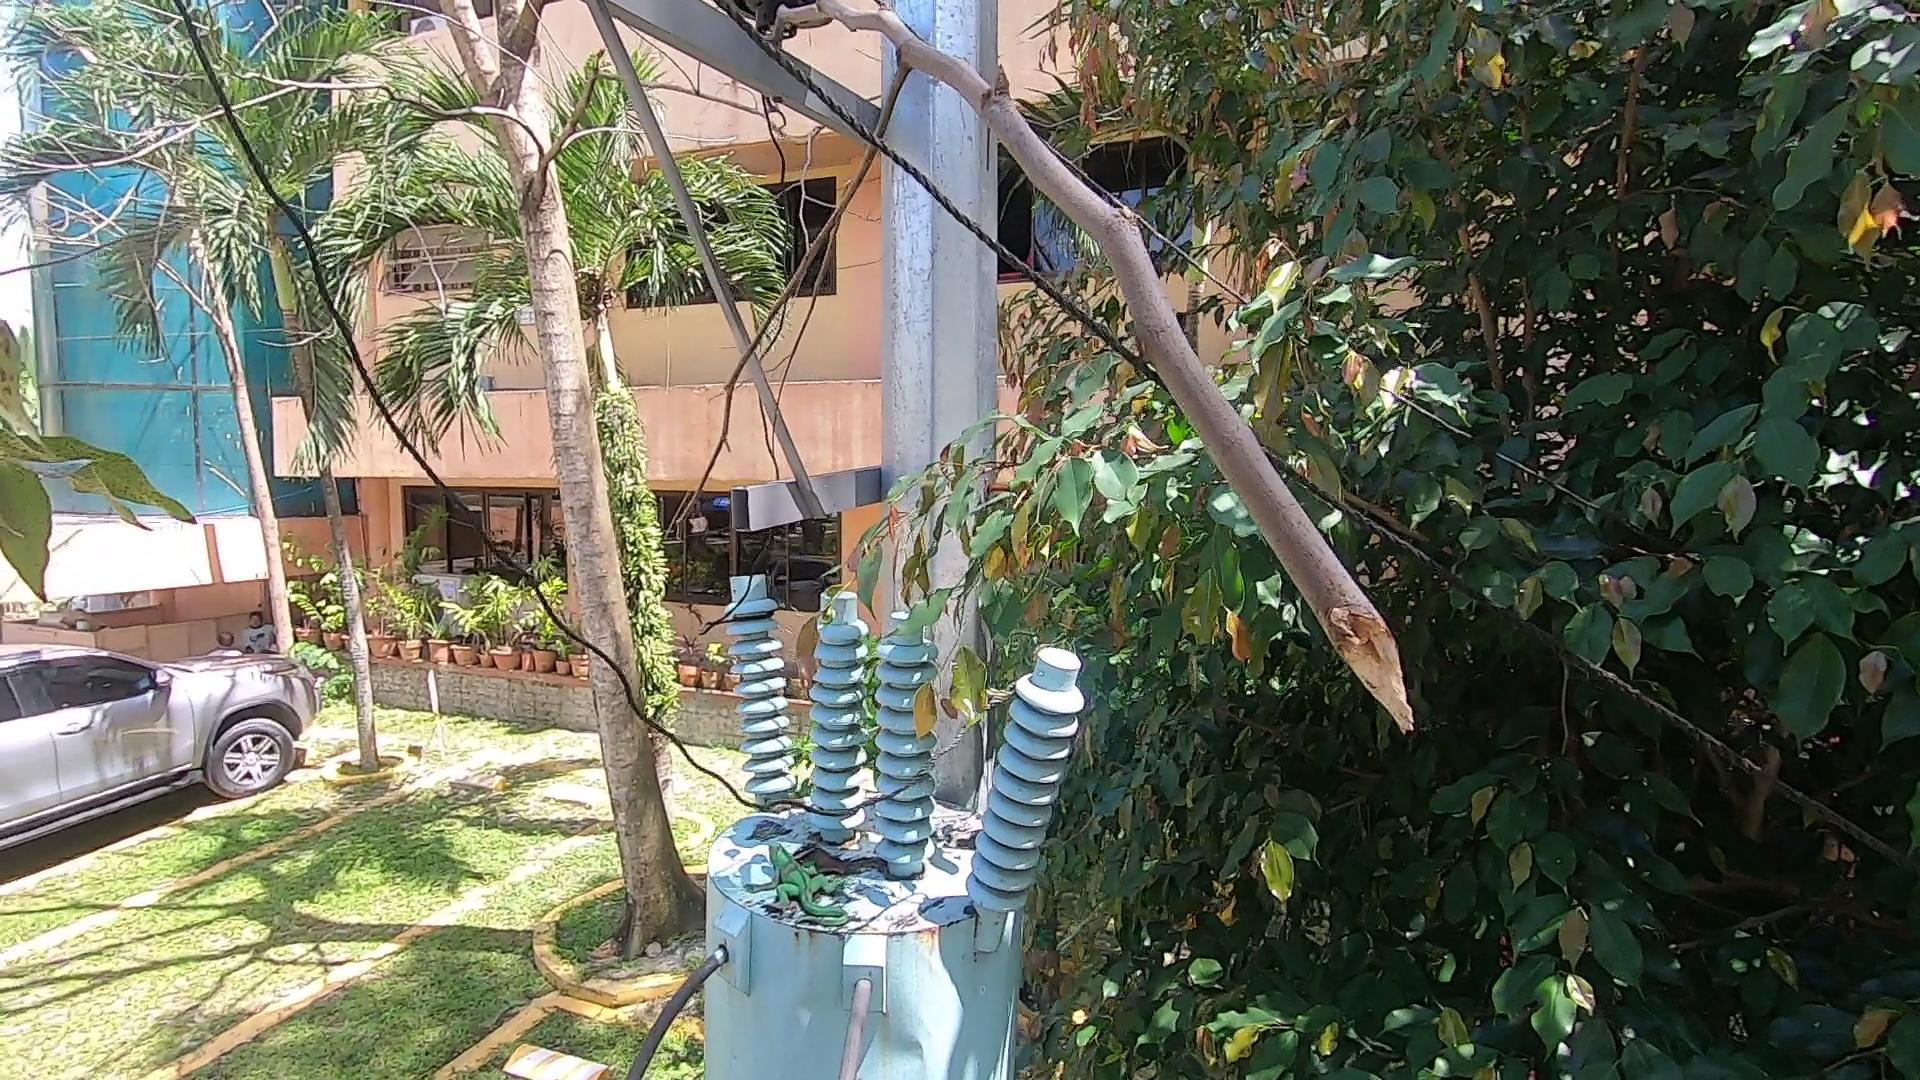branch with leaves: (795, 425, 1073, 724)
leaf: (775, 832, 914, 899), (742, 782, 800, 815), (945, 820, 997, 857)
tree branch: (754, 3, 1445, 811)
